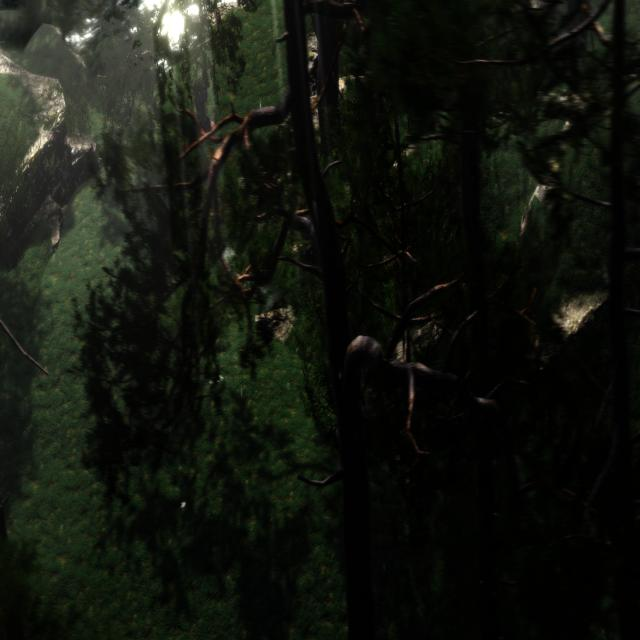Human: (154, 89, 212, 138)
